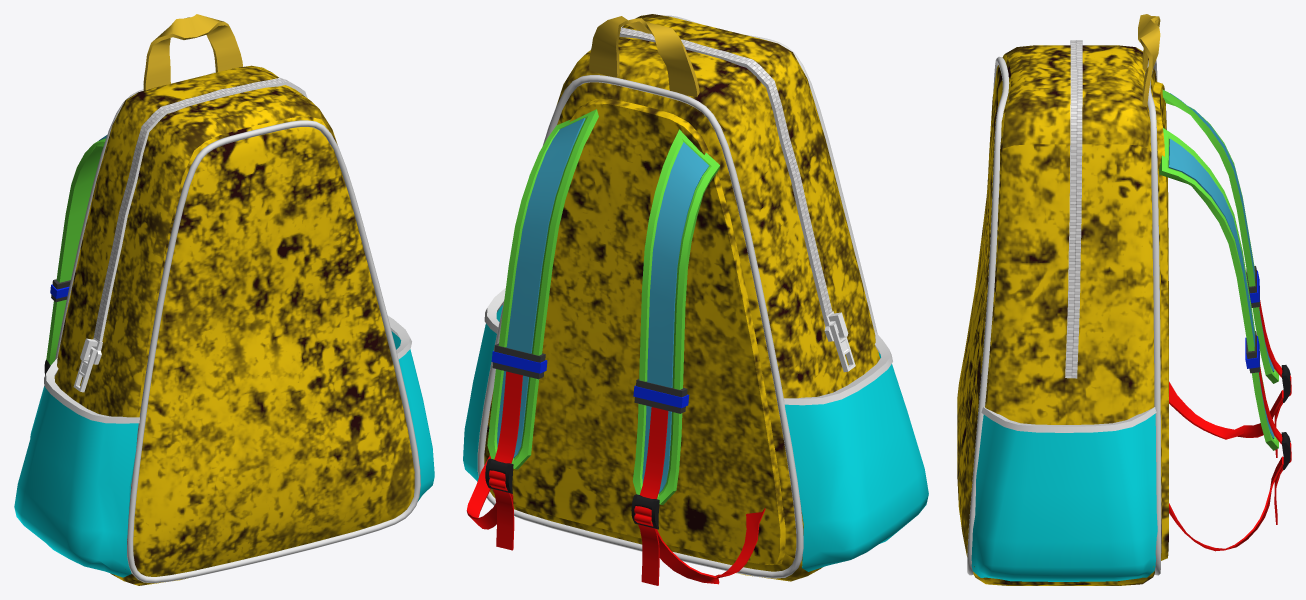
File: Ranac 7.FBX
3 renders of one model, left to right at view 1: azimuth 30°, elevation 25°; view 2: azimuth 150°, elevation 25°; view 3: azimuth 270°, elevation 25°, orthographic. The views are drawn at different scales.
Parts seen in each view (by area): view 1: Box046, Object042, Shape046, Object039; view 2: Box046, Object042, Shape046, Object039; view 3: Box046, Object042, Shape046, Object039.
Boxes of the visible parts, x1,y1,x2,y2 form: Box046: (54,65,414,585); Object042: (14,14,434,577); Shape046: (44,72,420,583); Object039: (73,78,307,392); Box046: (484,14,880,581); Object042: (463,16,928,585); Shape046: (477,15,892,578); Object039: (591,27,855,372); Box046: (957,45,1168,585); Object042: (971,14,1291,581); Shape046: (967,56,1161,575); Object039: (1065,40,1082,378).
Bounding box in the file's own units: 114 × 147 × 87.55.
